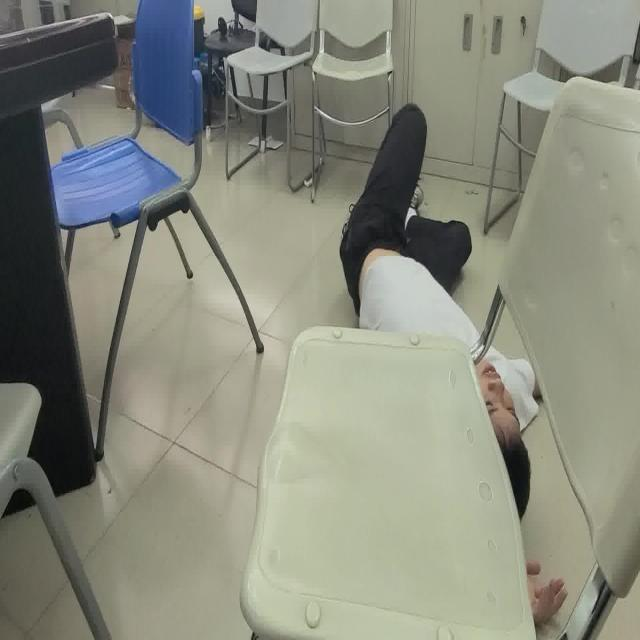Fall-Detected: (338, 97, 566, 613)
